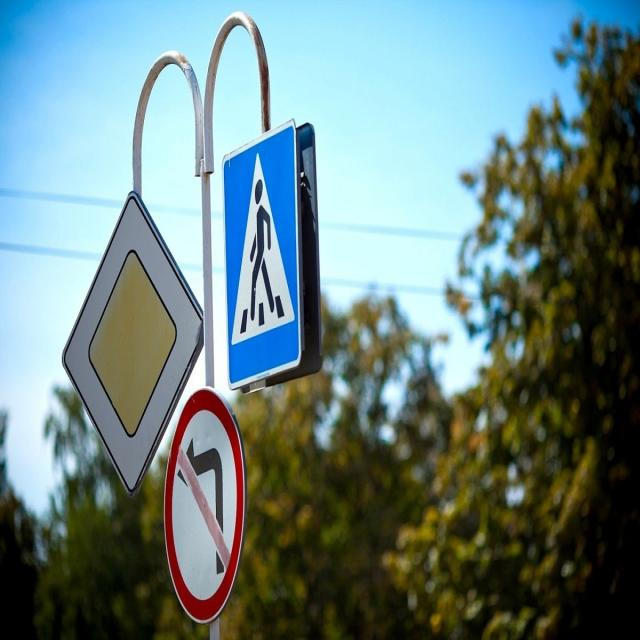Traffic sign: (57, 175, 204, 479), (213, 121, 329, 392), (168, 387, 240, 622)
